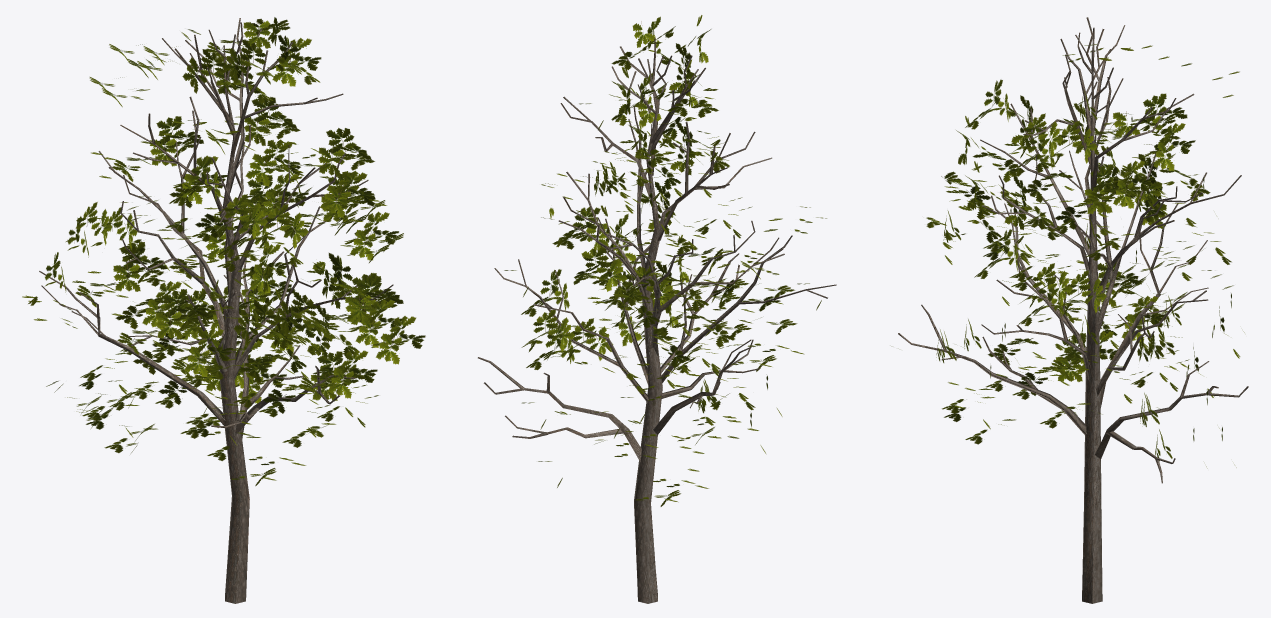
Rendered from tree_oak.glb.
3 renders of one model, left to right at view 1: azimuth 30°, elevation 25°; view 2: azimuth 150°, elevation 25°; view 3: azimuth 270°, elevation 25°, orthographic. The views are drawn at different scales.
Parts seen in each view (by area): view 1: Leaf Oak, Wood - Bark, Leaf Oak2; view 2: Wood - Bark, Leaf Oak, Leaf Oak2; view 3: Leaf Oak, Wood - Bark, Leaf Oak2.
Boxes of the visible parts, x1,y1,x2,y2 form: Leaf Oak: (22,17,416,486); Wood - Bark: (39,18,393,603); Leaf Oak2: (45,27,425,464); Wood - Bark: (478,38,836,603); Leaf Oak: (521,15,826,506); Leaf Oak2: (504,16,809,487); Leaf Oak: (891,44,1244,468); Wood - Bark: (898,17,1248,603); Leaf Oak2: (944,63,1231,440).
Bounding box in the file's own units: 5.87 × 9.35 × 5.64.
3 materials, 3 textured.
